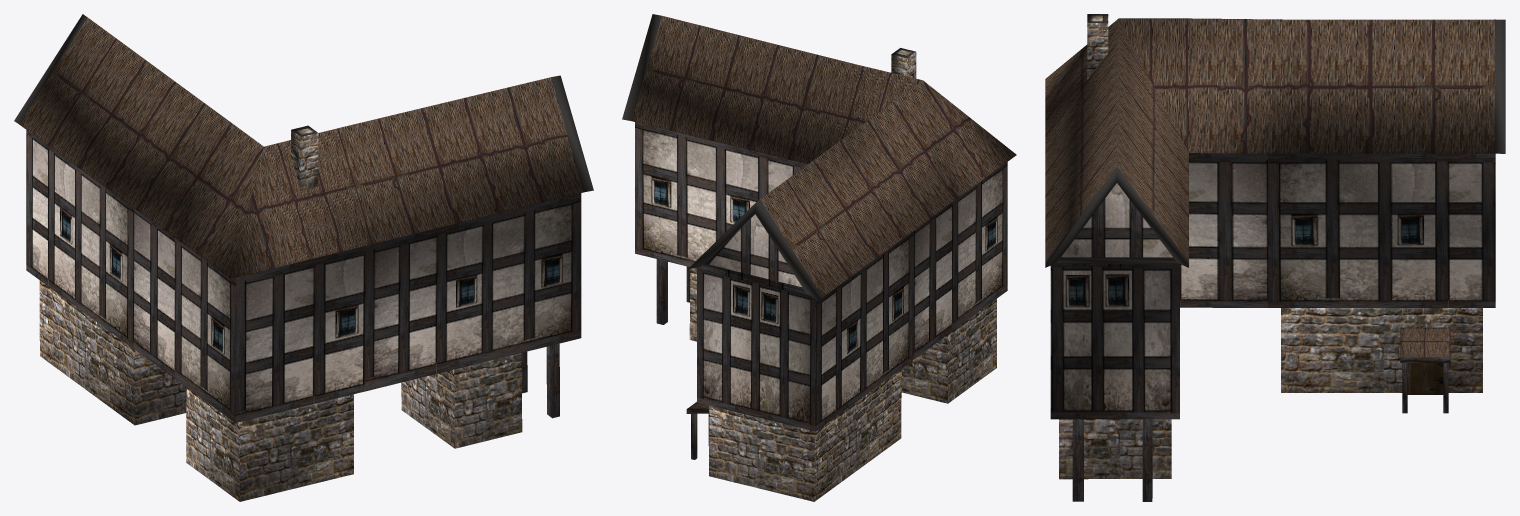
File: house.obj
3 renders of one model, left to right at view 1: azimuth 30°, elevation 25°; view 2: azimuth 150°, elevation 25°; view 3: azimuth 270°, elevation 25°, orthographic. The views are drawn at different scales.
Size of the model in its own units: 218 by 194 by 225.
1 material, 1 textured.
